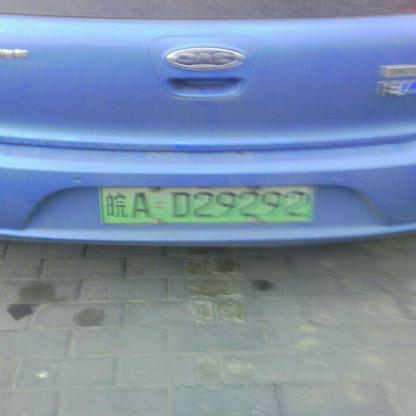lp: (99, 188, 315, 223)
